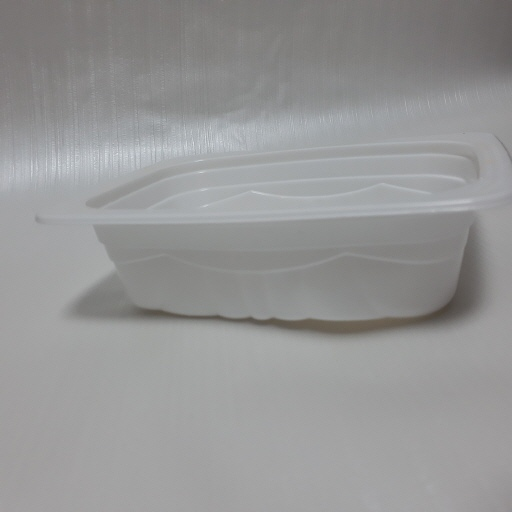Plastic_4: (35, 132, 512, 327)
